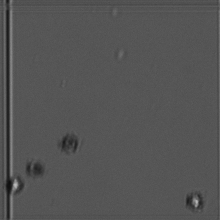Dead Cell: (56, 129, 84, 158), (25, 158, 50, 181)
Living Cell: (185, 189, 211, 217), (6, 174, 28, 200)
